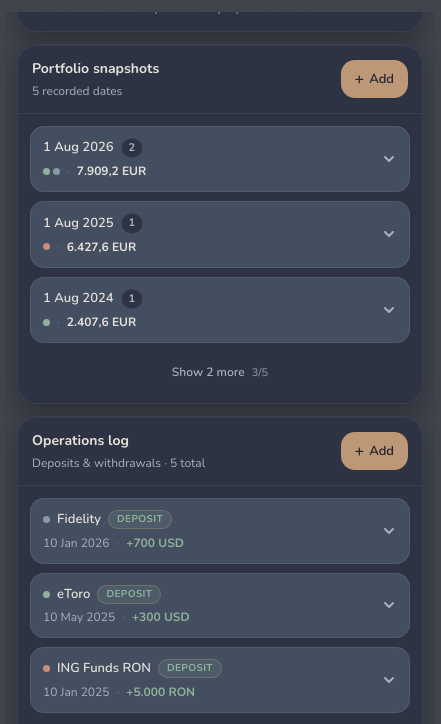
Test case: Investments page › shows only 3 snapshot dates then reveals more
Check: the text "1 Aug 2026" is shown, box [43,138,114,158]
Check: the text "1 Aug 2025" is shown, box [43,214,114,233]
Click the button "Show 2 more 3/5" below "recorded date" at (220, 372), box [30,354,410,390]
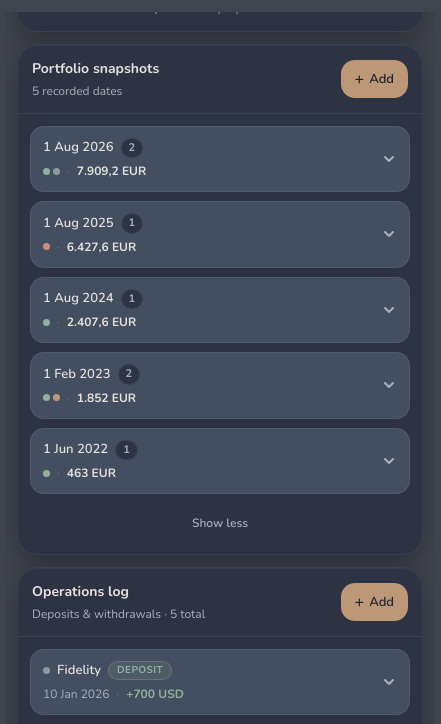
Check: the text "1 Feb 2023" is shown, box [43,364,110,384]
Click the button "Show less" at (220, 523), box [30,505,410,541]
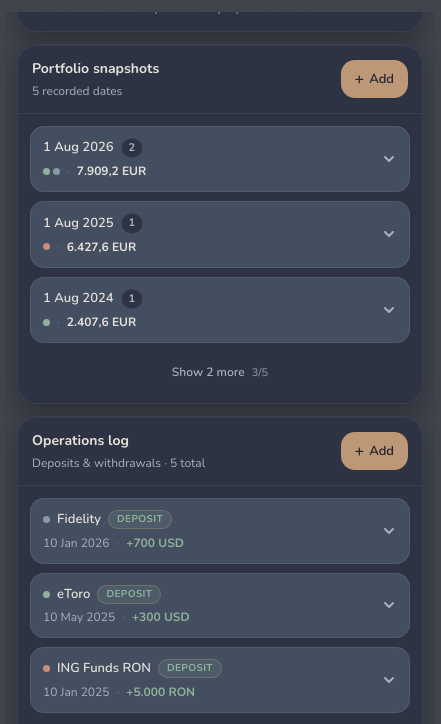
Check: the button "1 Feb 2023" is gone
